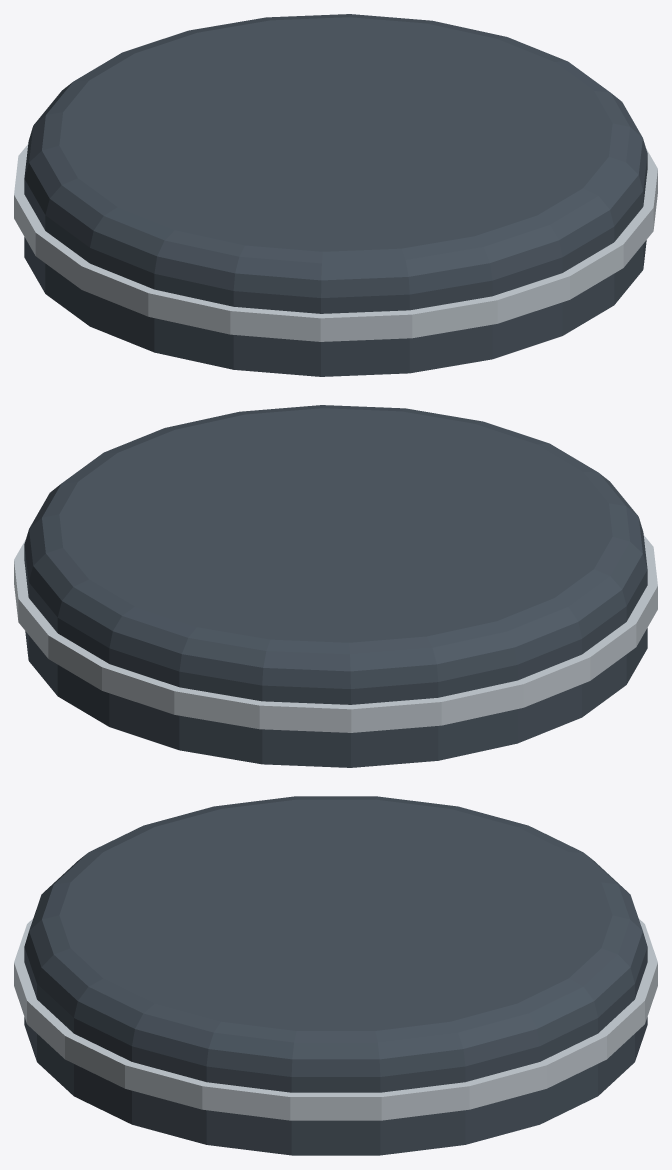
File: Button_ResetBase.gltf
The picture shows the model from 3 angles, top to bottom: view 1: azimuth 30°, elevation 25°; view 2: azimuth 150°, elevation 25°; view 3: azimuth 270°, elevation 25°; orthographic projection.
Parts seen in each view (by area): view 1: Button_ResetBase_baked; view 2: Button_ResetBase_baked; view 3: Button_ResetBase_baked.
Part boxes in pixels (bbox=[...]): Button_ResetBase_baked: bbox=[14, 14, 657, 376]; Button_ResetBase_baked: bbox=[14, 405, 657, 767]; Button_ResetBase_baked: bbox=[14, 796, 657, 1155].
Size of the model in its own units: 0.7364 by 0.14 by 0.744.
